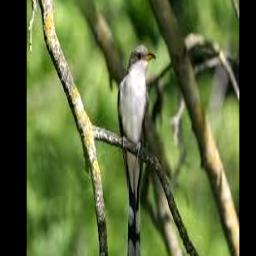Cuckoo: (118, 45, 156, 256)
